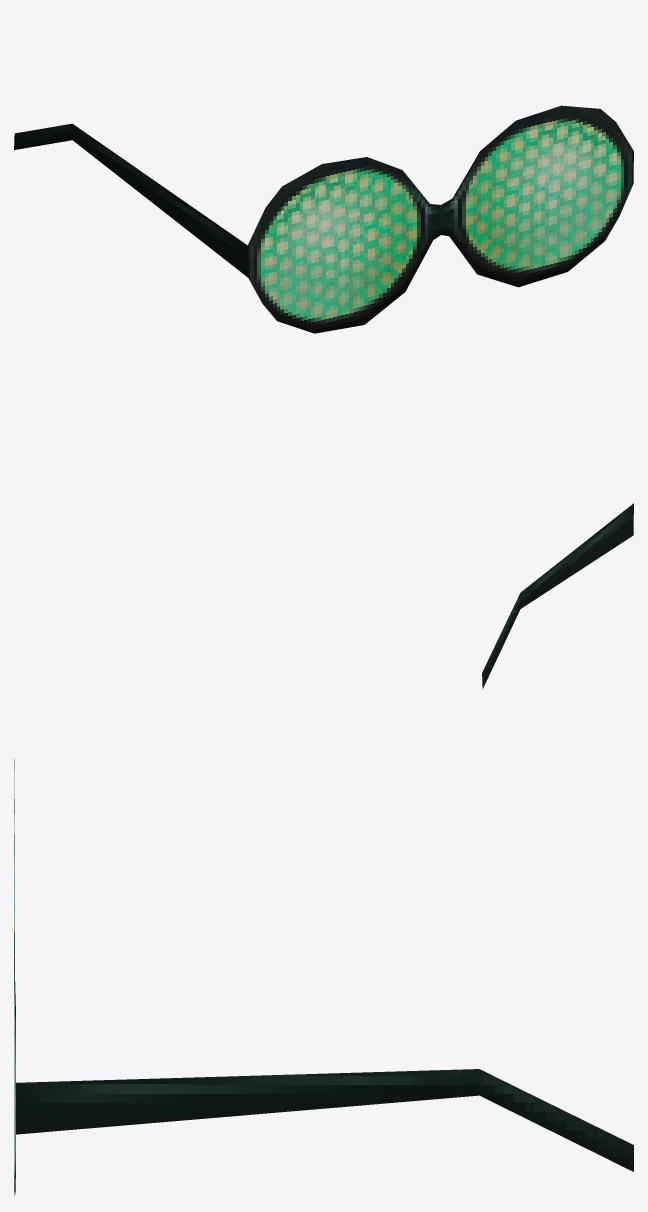
The model's file is tt_m_chr_avt_acc_msk_insectEyeGlasses.glb.
The picture shows the model from 3 angles, top to bottom: view 1: azimuth 30°, elevation 25°; view 2: azimuth 150°, elevation 25°; view 3: azimuth 270°, elevation 25°; orthographic projection. The views are drawn at different scales.
Visible parts, largest first — view 1: tt_m_chr_avt_acc_msk_insectEyeGlasses; view 2: tt_m_chr_avt_acc_msk_insectEyeGlasses; view 3: tt_m_chr_avt_acc_msk_insectEyeGlasses.
Part boxes in pixels (x1=…): tt_m_chr_avt_acc_msk_insectEyeGlasses: x1=14, y1=105, x2=633, y2=333; tt_m_chr_avt_acc_msk_insectEyeGlasses: x1=482, y1=503, x2=633, y2=688; tt_m_chr_avt_acc_msk_insectEyeGlasses: x1=14, y1=759, x2=633, y2=1195.
Size of the model in its own units: 3.93 by 1.37 by 2.81.
Materials: 1 (1 with a texture image).
